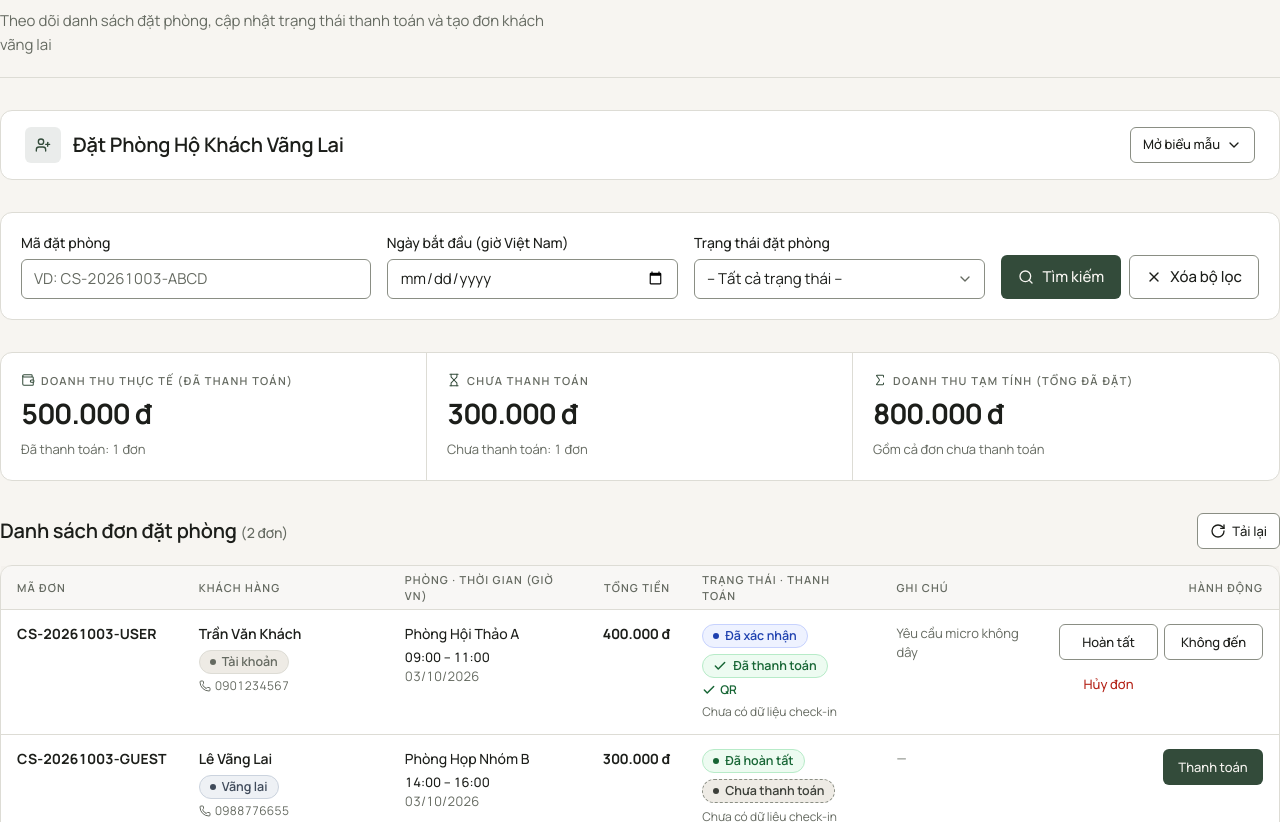
AdminBookingsPage - Booking Management & Search › Revenue KPI Summary and State Transition Actions (Complete / No-Show) › retains the list and reports both errors if refreshing after a conflict fails
Click the button with test id "complete-booking-btn-booking-1".
click(1108, 642)  # box x1=1059 y1=624 x2=1158 y2=660
(page scrolled)
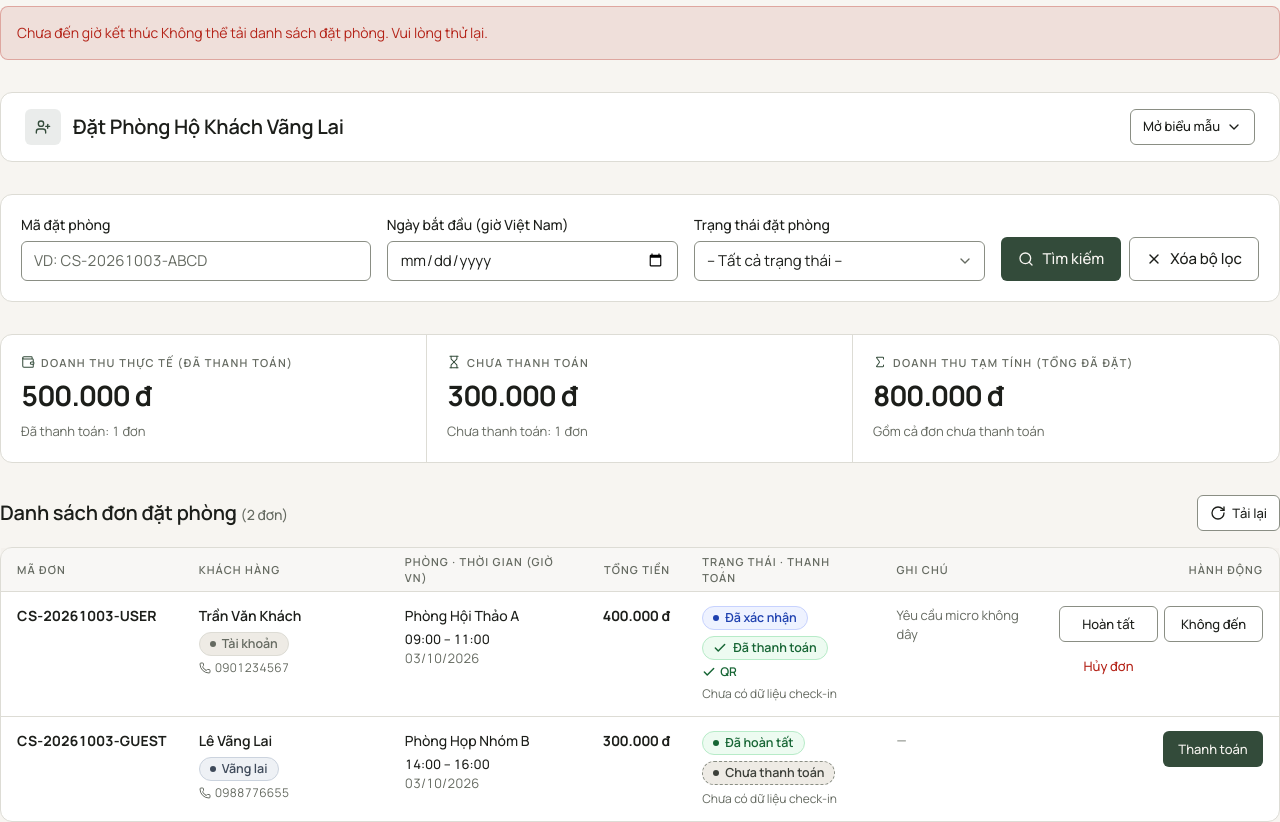
Expected: the table with test id "admin-bookings-table" is shown, x1=1 y1=548 x2=1279 y2=821
Expected: the message shows "Không thể tải danh sách đặt phòng. Vui lòng thử lại.", x1=17 y1=23 x2=488 y2=42
Expected: the message shows "Chưa đến giờ kết thúc", x1=17 y1=23 x2=488 y2=42
